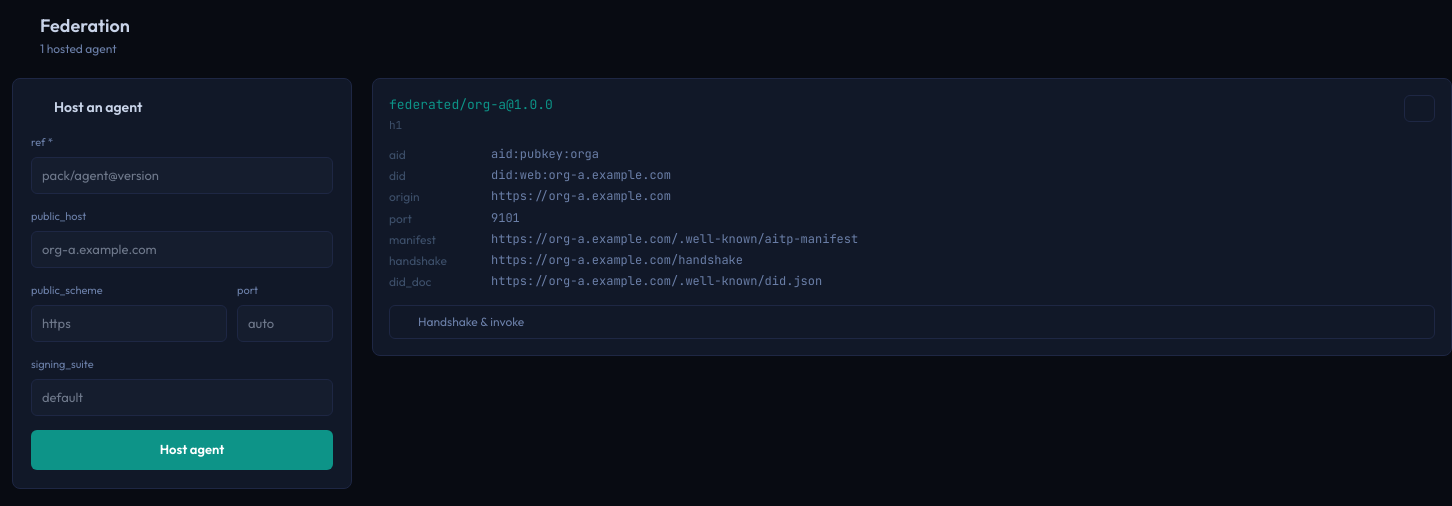
Test case: handshake banner — scope › leaves the generic banner in place for the stop path
Expected: the text "federated/org-a@1.0.0" is shown, [389,95,553,114]
Click the button named "Stop federated". click: (1420, 108)
box: [1404,95,1435,122]
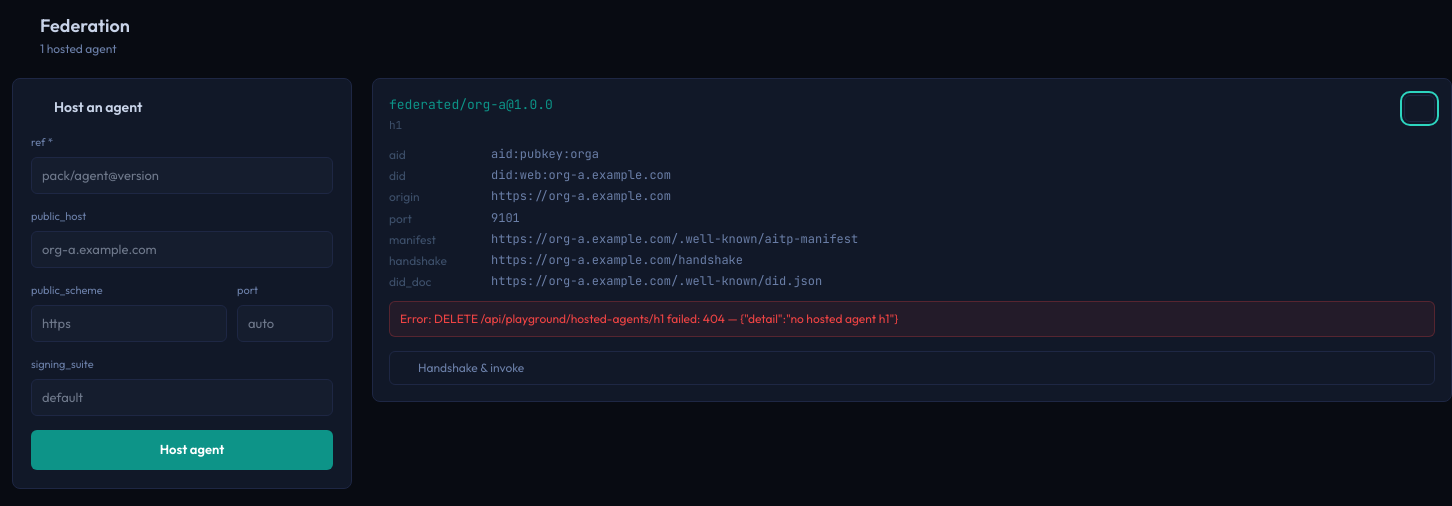
Now the text "Error: DELETE /api/playground/hosted-agents/h1 failed: 404 — {\"detail\":\"no hosted agent h1\"}" is shown, box [400,311,898,326]
